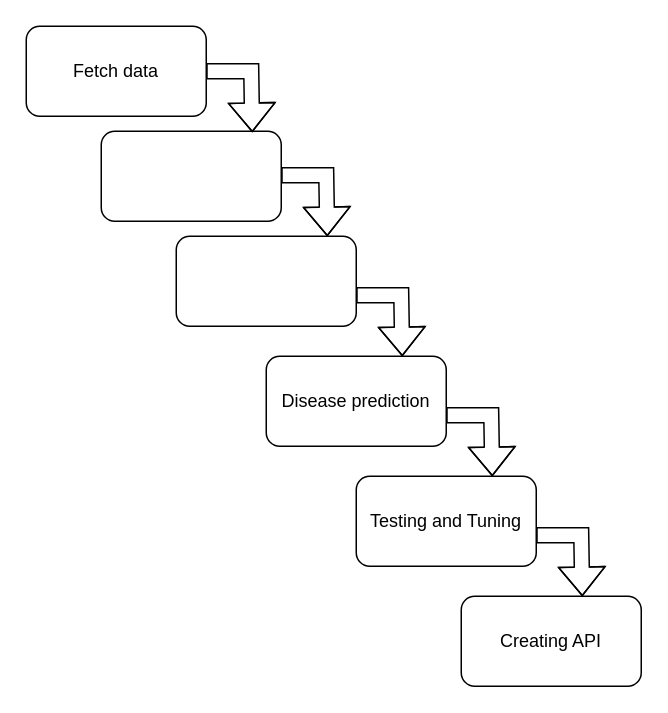
Some shapes in this 668 by 713 pixel diagram are drawn without their labels. Each missing label, with the centre of its shape:
Named Entity Recognition: point 265,280
Preprocessing: point 190,175
